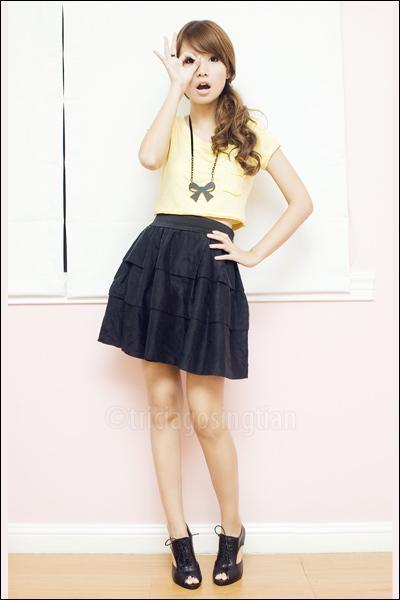shirt: (163, 115, 282, 220)
shoe: (170, 526, 244, 583)
skirt: (98, 213, 248, 378)
